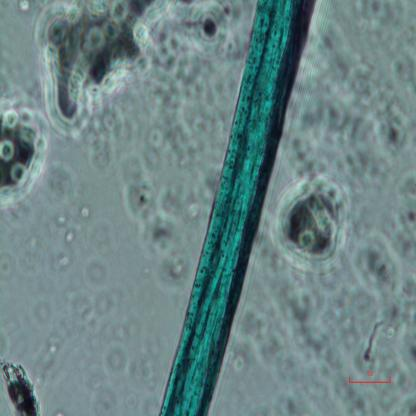Background material: (40, 1, 171, 143), (304, 27, 413, 190), (238, 283, 364, 412), (148, 29, 219, 166), (120, 161, 191, 282), (270, 176, 361, 269), (348, 204, 416, 305), (70, 251, 140, 345), (0, 103, 52, 215), (362, 298, 405, 364), (88, 106, 131, 170), (182, 0, 230, 56), (0, 353, 42, 415), (0, 226, 46, 282), (32, 327, 67, 372), (88, 372, 123, 416), (48, 162, 78, 204), (107, 341, 129, 372), (119, 386, 142, 412), (54, 252, 73, 272), (53, 208, 66, 231), (75, 204, 93, 219), (17, 0, 34, 13), (63, 229, 78, 243), (53, 408, 68, 416)
Microfibre: (158, 0, 317, 414)
